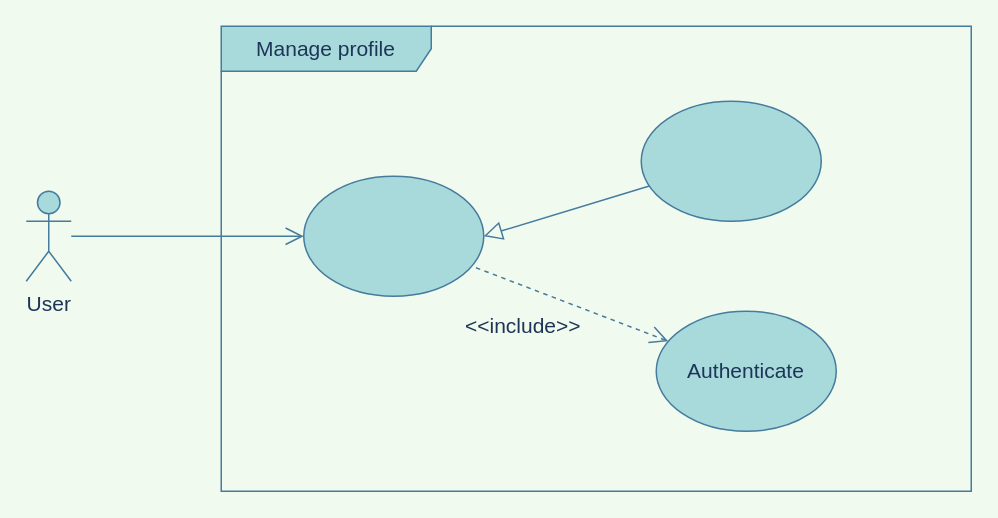
Some shapes in this 998 by 518 pixel diagram are drawn without their labels. Here are the shapes that lost their labels. From the top down, the box of each, then its label:
(640, 100, 821, 221): Update information
(302, 175, 484, 296): Manage profle
